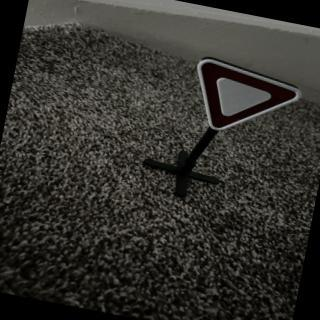sign_yield: (186, 56, 307, 148)
